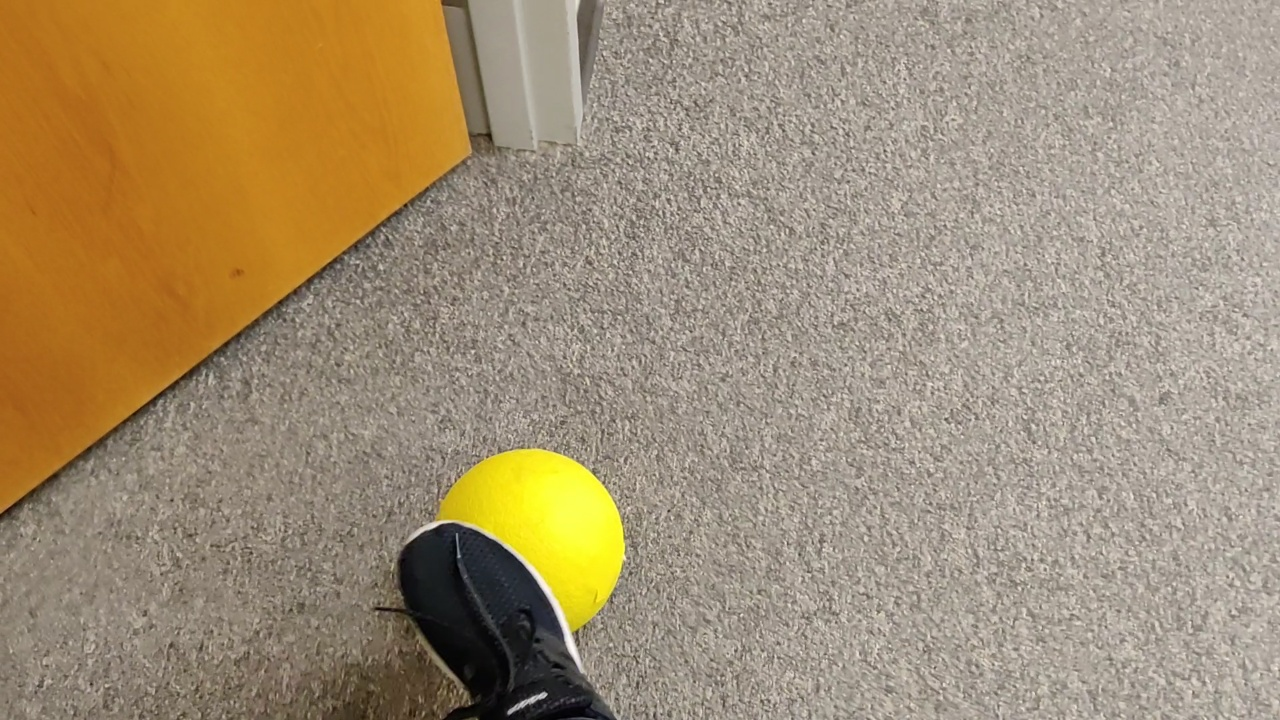Ball: (434, 448, 627, 623)
